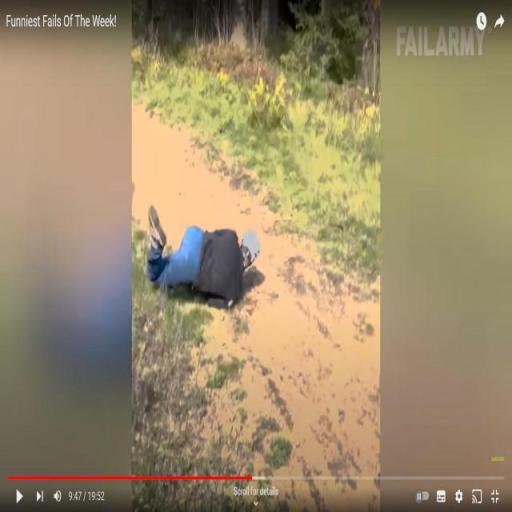Fall: (146, 197, 263, 312)
